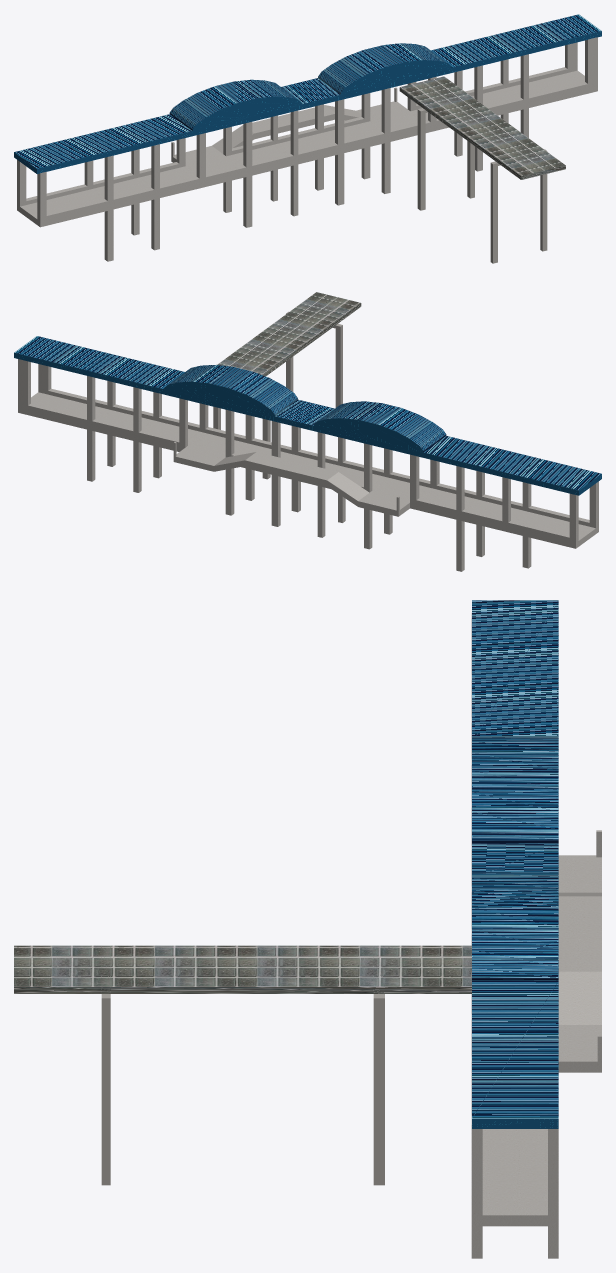
File: watari1to3.fbx
3 renders of one model, top to bottom at view 1: azimuth 30°, elevation 25°; view 2: azimuth 150°, elevation 25°; view 3: azimuth 270°, elevation 25°, orthographic. The views are drawn at different scales.
Visible parts, largest first — view 1: Cube, Cube.001, Cube.002; view 2: Cube, Cube.001, Cube.002; view 3: Cube.001, Cube.002, Cube.
Boxes of the visible parts, bbox=[...] form: Cube: bbox=[17, 37, 597, 261]; Cube.001: bbox=[14, 14, 601, 173]; Cube.002: bbox=[399, 76, 565, 263]; Cube: bbox=[18, 359, 598, 571]; Cube.001: bbox=[14, 336, 601, 495]; Cube.002: bbox=[213, 292, 361, 479]; Cube.001: bbox=[472, 600, 558, 1128]; Cube.002: bbox=[14, 945, 471, 1185]; Cube: bbox=[471, 613, 601, 1258].
Bounding box in the file's own units: 3567 × 766 × 1709.
